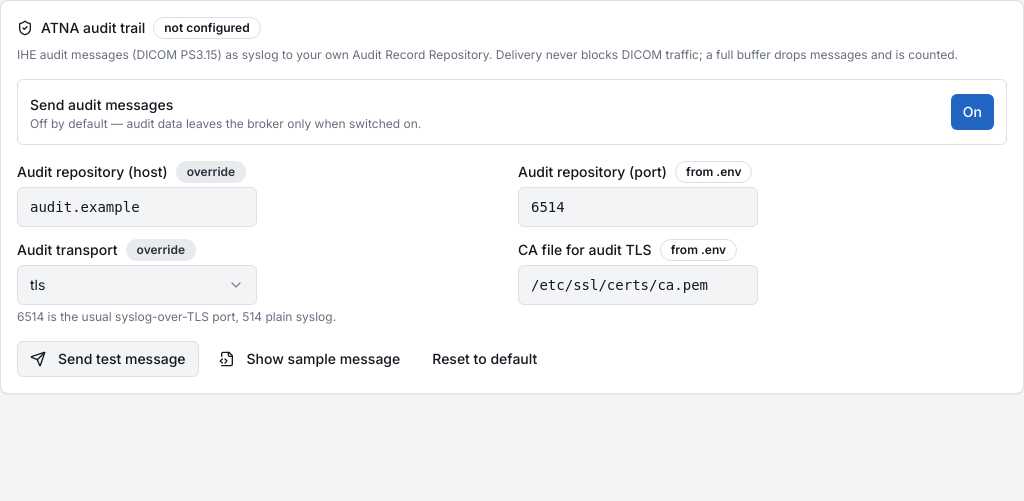
Test: AtnaCard › shows the sample audit message on demand
The width and height of the screenshot is (1024, 501).
Step 1. Click the button "Show sample message" → click(309, 359), box x1=207 y1=341 x2=412 y2=377
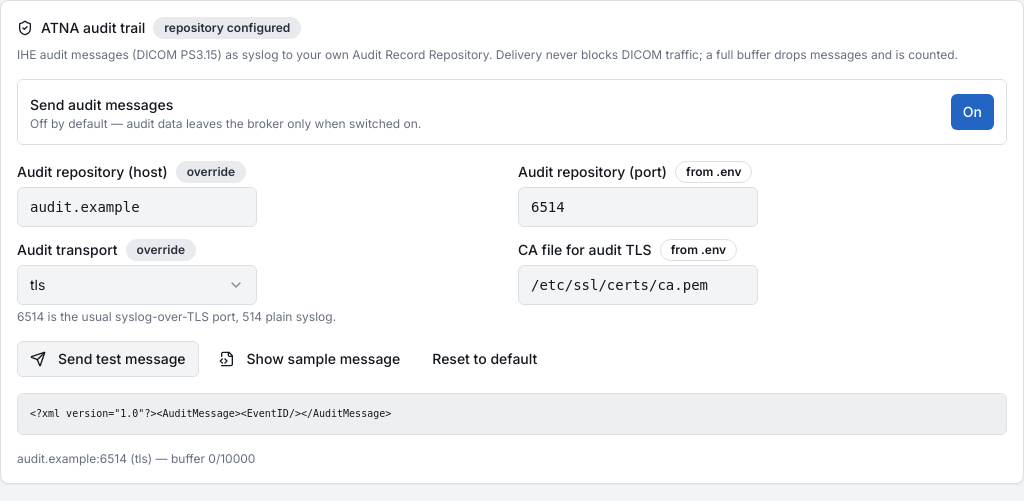
Check: the text with test id "atna-sample" shows "<AuditMessage>", box x1=30 y1=408 x2=391 y2=419
